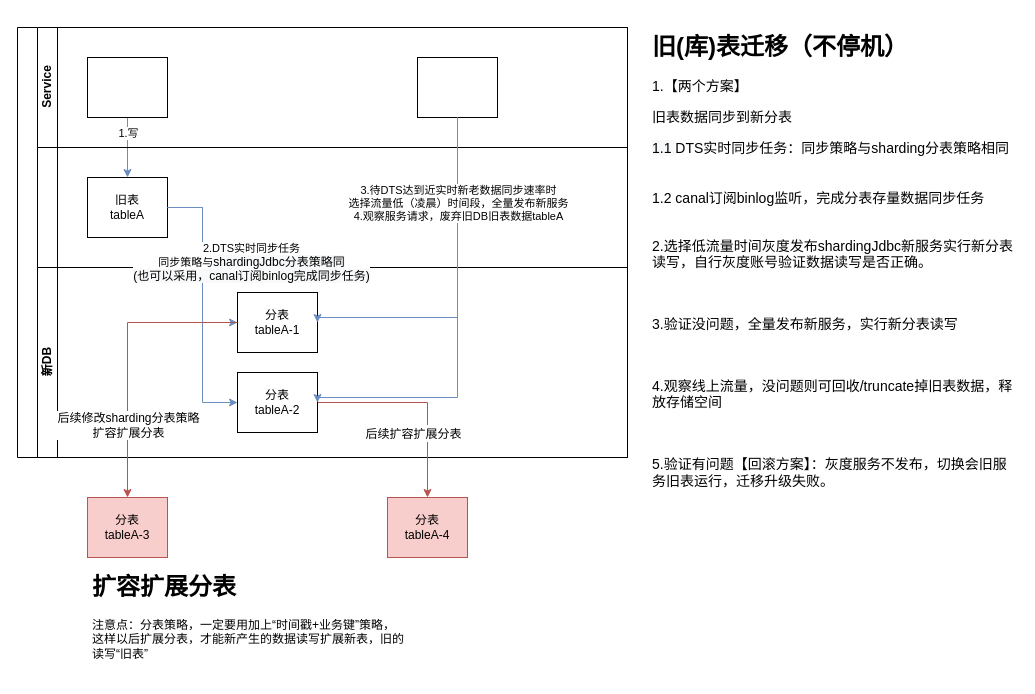
This 1035x694 diagram has some shape labels left out. The box of each missing label's shape, as (x1, y1, x2, y2) in pixels:
Pool: (16, 26, 628, 458)
shardingJdbc 新服务: (416, 56, 498, 118)
旧DB: (36, 146, 628, 268)
旧service: (86, 56, 168, 118)
